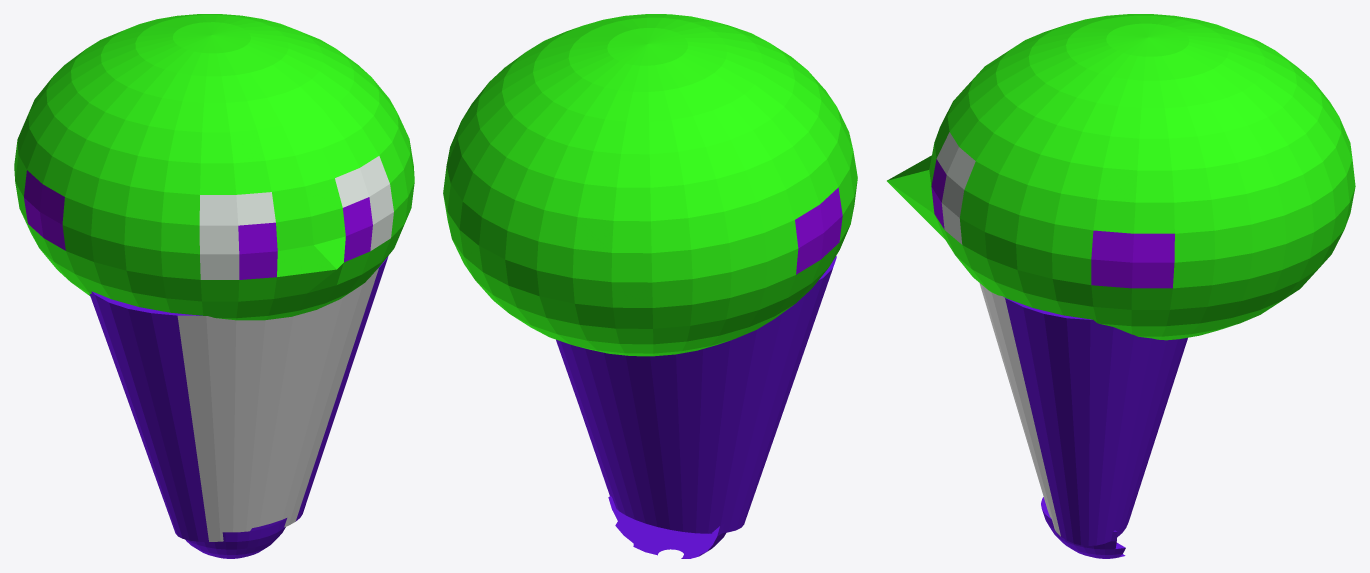
Rendered from Riso.fbx.
3 views of the same model, side by side, from view 1: azimuth 30°, elevation 25°; view 2: azimuth 150°, elevation 25°; view 3: azimuth 270°, elevation 25° (orthographic). The views are drawn at different scales.
Visible parts, largest first — view 1: Riso; view 2: Riso; view 3: Riso.
Part boxes in pixels (x1,y1,x2,y2): Riso: (14, 14, 414, 558); Riso: (443, 14, 857, 558); Riso: (887, 14, 1355, 558).
Size of the model in its own units: 174 by 203 by 246.
